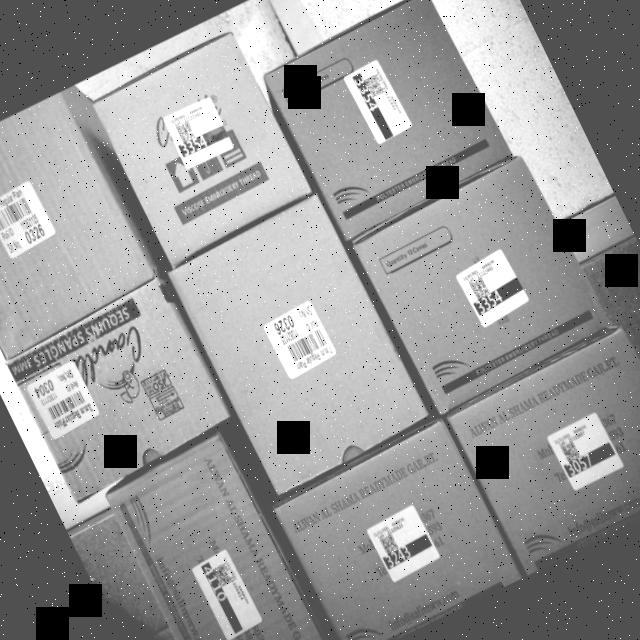box: (164, 192, 433, 493), (351, 158, 613, 414), (255, 0, 513, 238), (272, 422, 523, 640), (87, 28, 310, 260), (102, 429, 341, 640), (445, 325, 640, 575), (8, 286, 232, 496), (0, 88, 161, 362)
